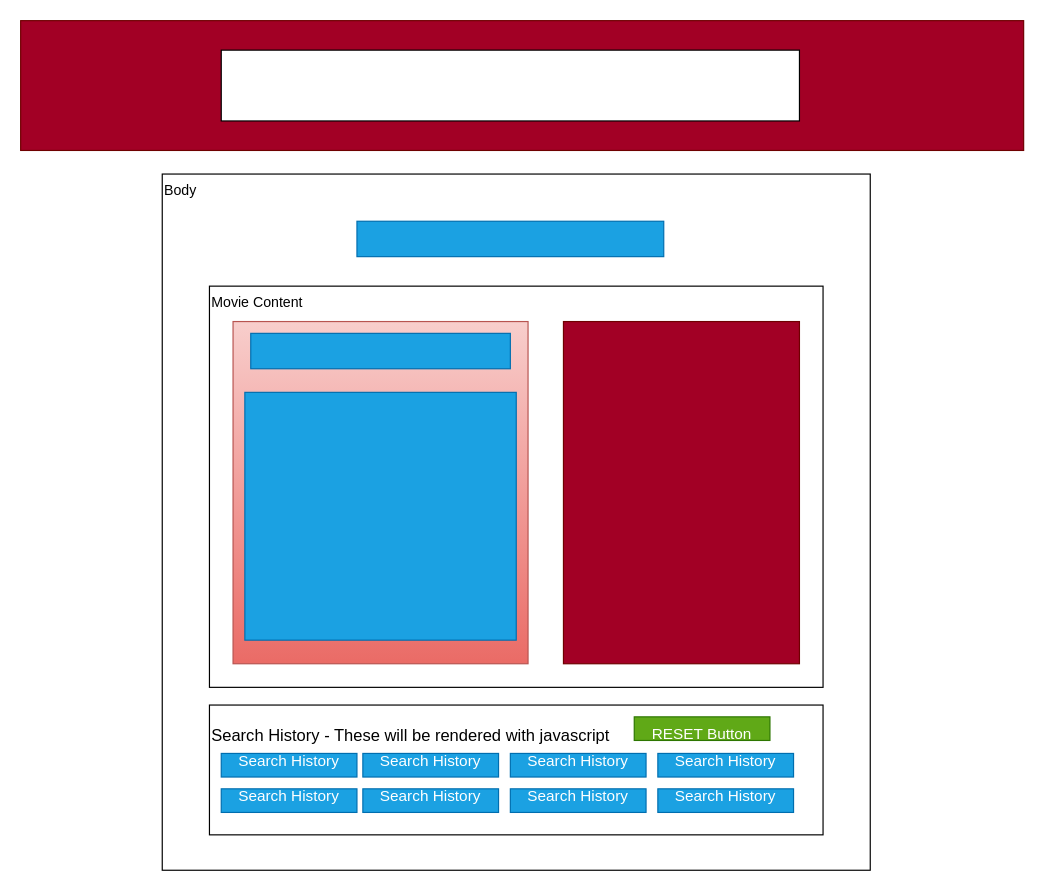
Some shapes in this 1044 by 891 pixel diagram are drawn without their labels. Here are the shapes that lost their labels. From the top down, the centre of each, then its label:
At (509,85): "Movie - Giphy".
At (510,238): "Search Bar".
At (380,350): "Movie Title".
At (680,492): "Giphy Image (9 or so!)".
At (380,515): "Movie Summary".
